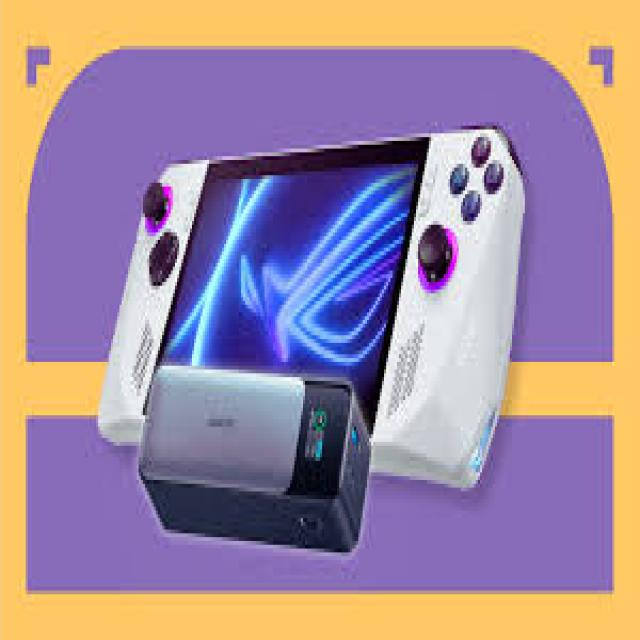power_bank: (132, 343, 374, 564)
